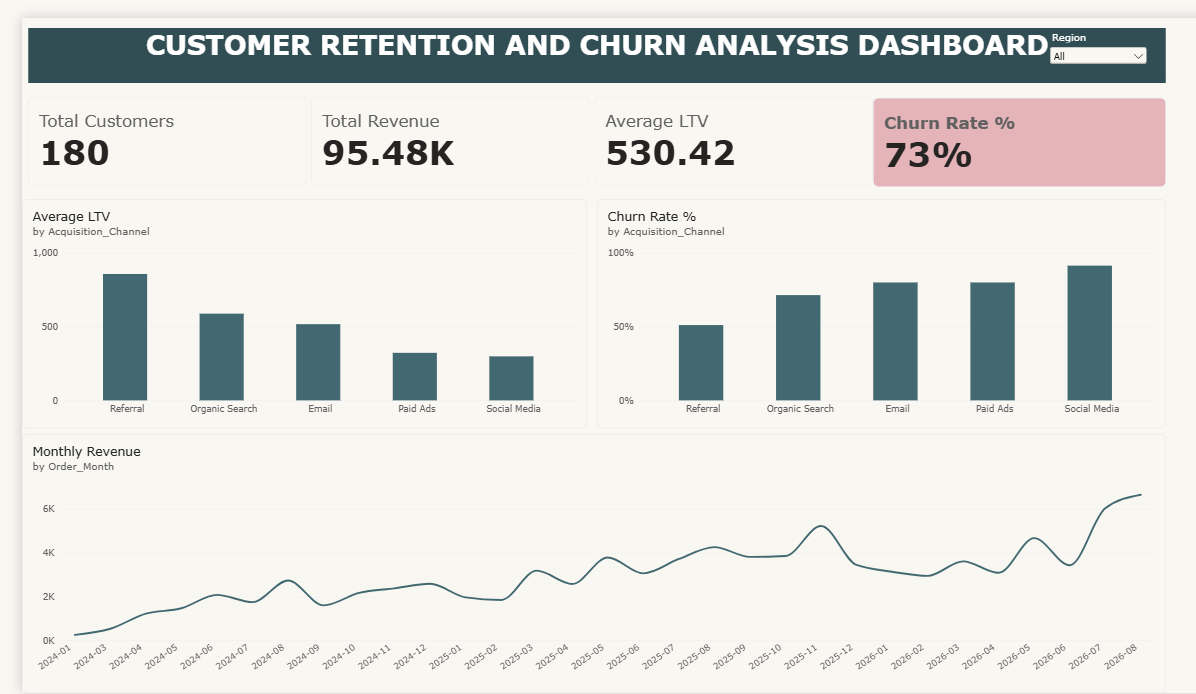

The dashboard page shown, as its layout file describes it:
{"tool":"powerbi","page":{"name":"Overview ","canvas":[1920,1080],"ordinal":0},"visuals":[{"type":"textbox","box":[10,16,1820,88],"z":0},{"type":"cardVisual","fields":{"Data":["customers.Total Customers","customers.Total Revenue","customers.Average LTV"]},"box":[10,126,1352,142],"z":1},{"type":"cardVisual","fields":{"Data":["customers.Churn Rate %"]},"box":[1362,128,468,142],"z":2},{"type":"clusteredColumnChart","fields":{"Category":["customers.Acquisition_Channel"],"Y":["customers.Average LTV"]},"box":[0,290,904,366],"z":3},{"type":"clusteredColumnChart","fields":{"Y":["customers.Churn Rate %"],"Category":["customers.Acquisition_Channel"]},"box":[920,290,910,366],"z":4},{"type":"lineChart","fields":{"Category":["Calendar.Order_Month"],"Y":["customers.Monthly Revenue"]},"box":[0,666,1830,414],"z":5},{"type":"slicer","fields":{"Values":["customers.Region"]},"box":[1640,20,164,106],"z":6}]}

Visuals, with their boxes on the page's 1920x1080 design canvas (x1, y1, x2, y2). These are canvas units, not pixel positions in the 1196x694 screenshot, which may show the page scaled, cropped or inside an application window:
textbox: <box>10,16,1830,104</box>
cardVisual - customers.Total Customers x customers.Total Revenue: <box>10,126,1362,268</box>
cardVisual - customers.Churn Rate %: <box>1362,128,1830,270</box>
clusteredColumnChart - customers.Acquisition_Channel x customers.Average LTV: <box>0,290,904,656</box>
clusteredColumnChart - customers.Churn Rate % x customers.Acquisition_Channel: <box>920,290,1830,656</box>
lineChart - Calendar.Order_Month x customers.Monthly Revenue: <box>0,666,1830,1080</box>
slicer - customers.Region: <box>1640,20,1804,126</box>
